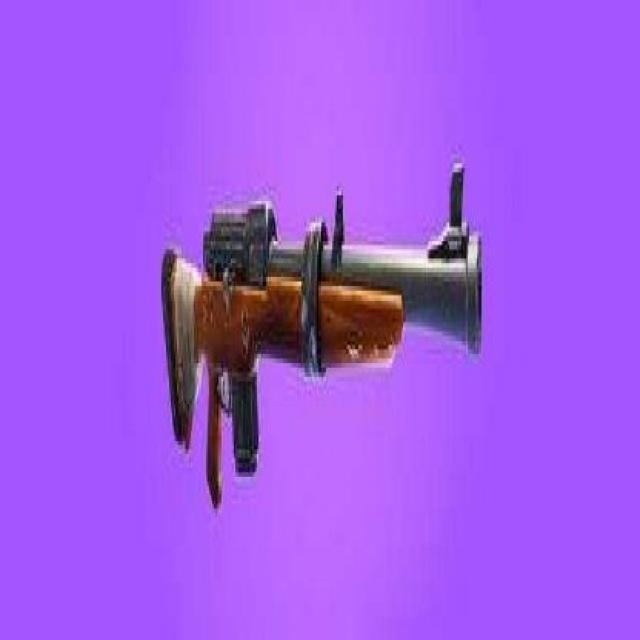weapon: (154, 174, 478, 517)
